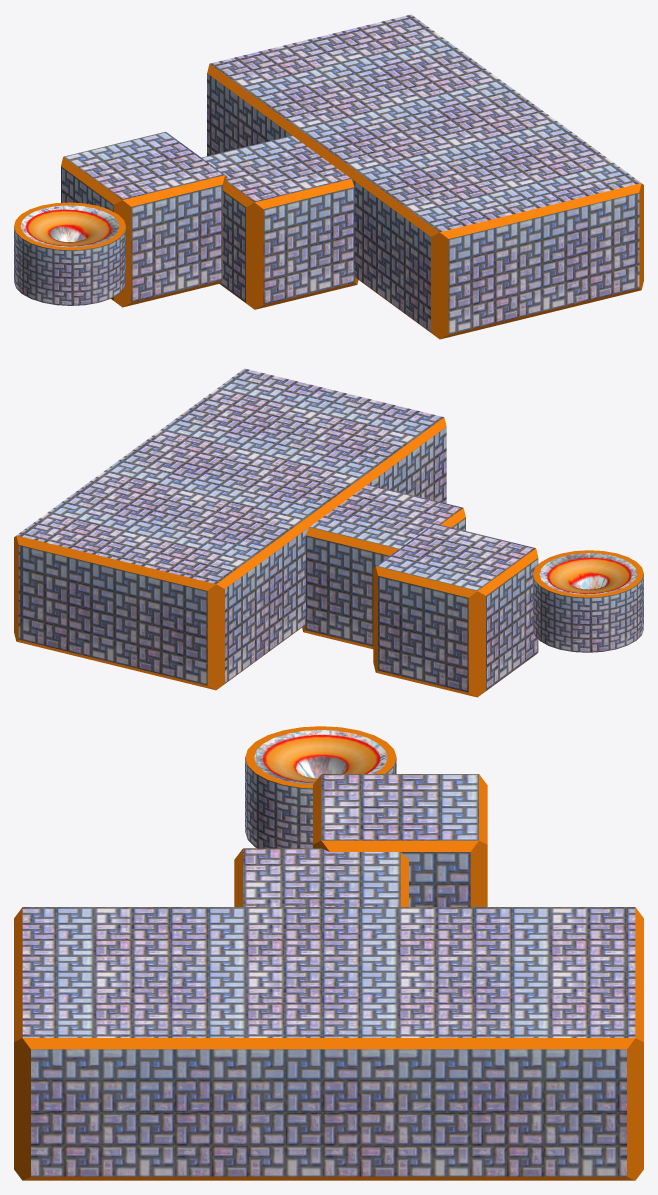
Rendered from Level01.fbx.
3 renders of one model, top to bottom at view 1: azimuth 30°, elevation 25°; view 2: azimuth 150°, elevation 25°; view 3: azimuth 270°, elevation 25°, orthographic. The views are drawn at different scales.
Parts seen in each view (by area): view 1: Level01:Layer1, Level01:Layer2; view 2: Level01:Layer1, Level01:Layer2; view 3: Level01:Layer1, Level01:Layer2.
Part boxes in pixels (box(x1,y1,x2,y2)): Level01:Layer1: box(14, 14, 643, 339); Level01:Layer2: box(14, 202, 125, 250); Level01:Layer1: box(14, 368, 643, 697); Level01:Layer2: box(533, 550, 643, 597); Level01:Layer1: box(14, 758, 643, 1180); Level01:Layer2: box(245, 726, 396, 788).
Size of the model in its own units: 15 by 3.16 by 11.99.
6 materials, 4 textured.
